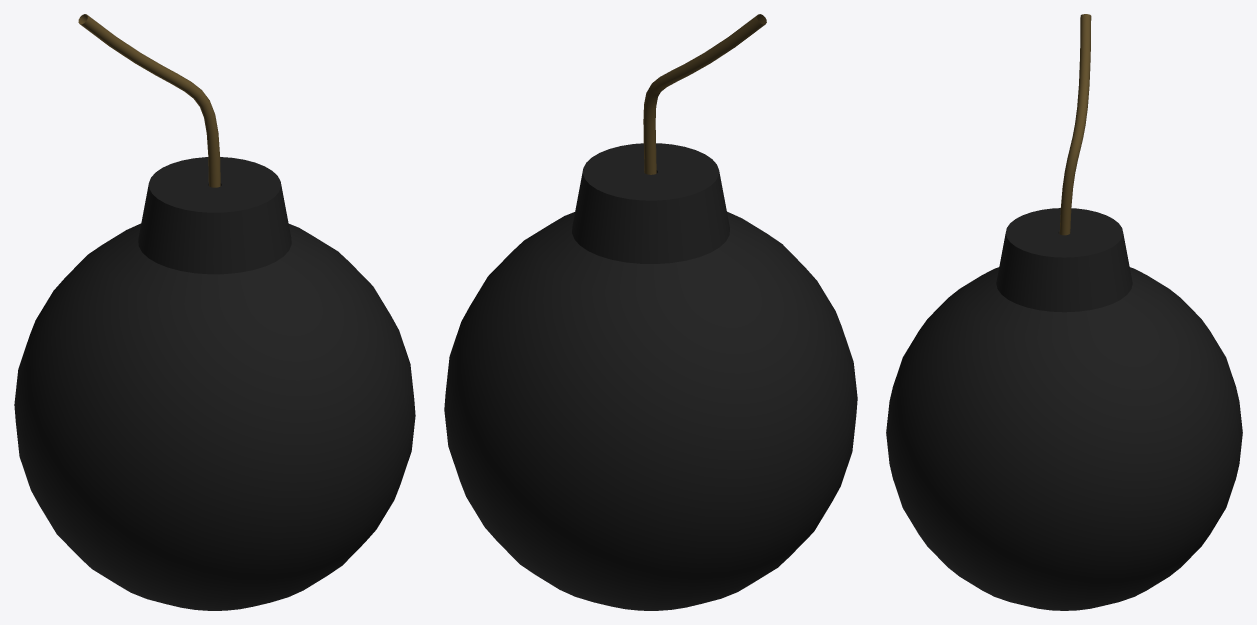
The model's file is bom.glb.
3 renders of one model, left to right at view 1: azimuth 30°, elevation 25°; view 2: azimuth 150°, elevation 25°; view 3: azimuth 270°, elevation 25°, orthographic. The views are drawn at different scales.
Parts seen in each view (by area): view 1: Sphere, BezierCurve; view 2: Sphere, BezierCurve; view 3: Sphere, BezierCurve.
Boxes of the visible parts, x1,y1,x2,y2 form: Sphere: (14,157,415,610); BezierCurve: (78,14,220,187); Sphere: (444,143,857,610); BezierCurve: (643,14,766,174); Sphere: (886,208,1242,610); BezierCurve: (1059,14,1091,235).
Size of the model in its own units: 2 by 3.28 by 2.
